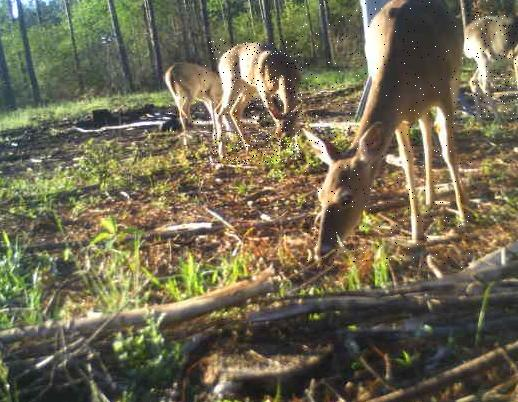Deer: (302, 0, 472, 268), (209, 39, 302, 164), (462, 12, 518, 119), (163, 60, 221, 133)
